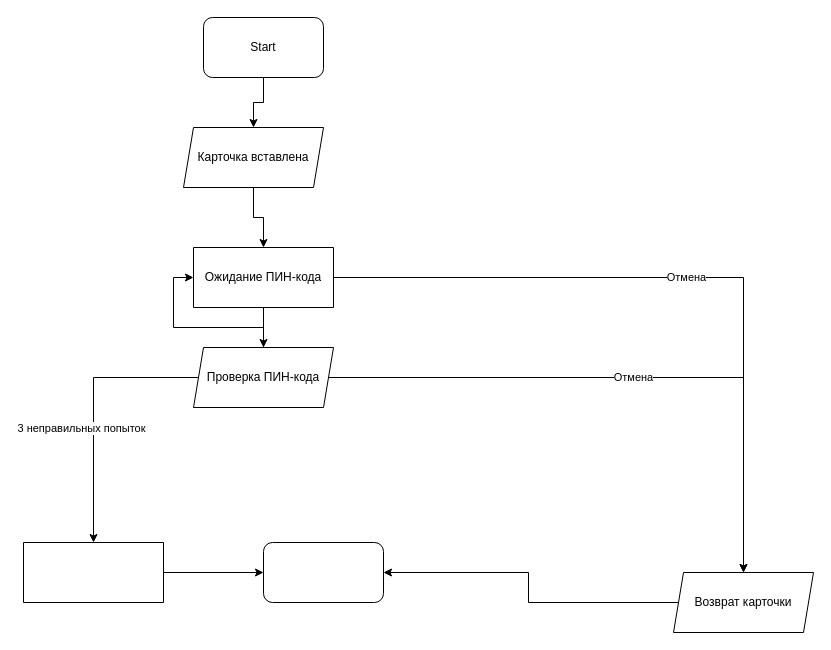
Some shapes in this 831 by 650 pixel diagram are drawn without their labels. The centre of each missing label's shape, as x and y in pixels:
End: (323,572)
Конфискация карточки: (93,572)
